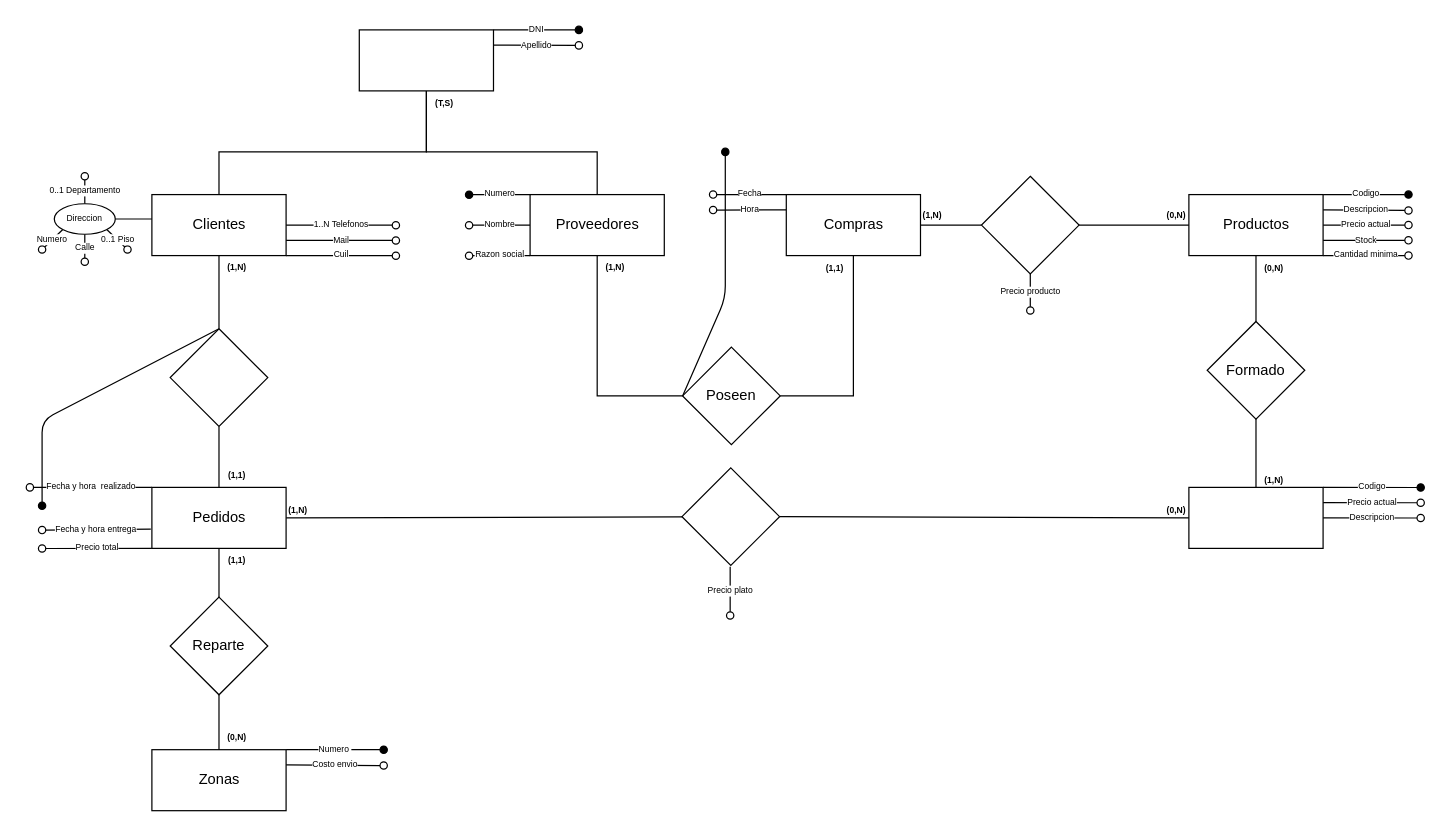
This 1452x832 diagram has some shape labels left out. The box of each missing label's shape, as (x1, y1, x2, y2) in pixels:
Personas: (358, 29, 493, 91)
Platos: (1188, 486, 1323, 548)
Realiza: (169, 328, 268, 426)
Tienen 1: (681, 467, 780, 565)
Tienen 2: (980, 175, 1079, 274)
